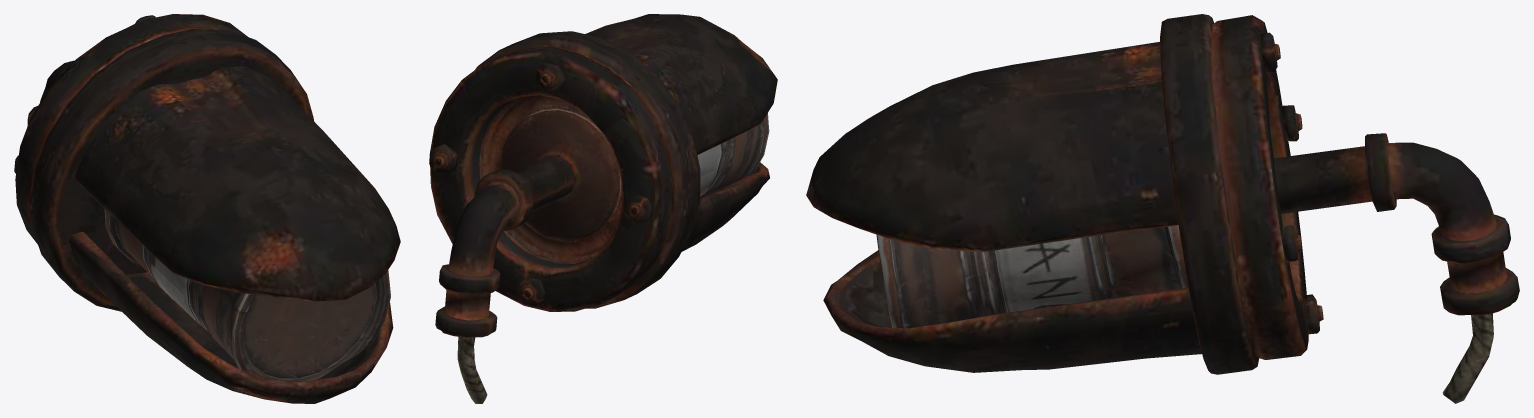
The model's file is survey_charge.glb.
3 renders of one model, left to right at view 1: azimuth 30°, elevation 25°; view 2: azimuth 150°, elevation 25°; view 3: azimuth 270°, elevation 25°, orthographic. The views are drawn at different scales.
Visible parts, largest first — view 1: SurveyCharge_LOD0; view 2: SurveyCharge_LOD0; view 3: SurveyCharge_LOD0.
Boxes of the visible parts, x1,y1,x2,y2 form: SurveyCharge_LOD0: (14,14,400,403); SurveyCharge_LOD0: (429,14,777,403); SurveyCharge_LOD0: (806,14,1519,403).
Size of the model in its own units: 0.0858 by 0.098 by 0.1701.
2 materials, 2 textured.
